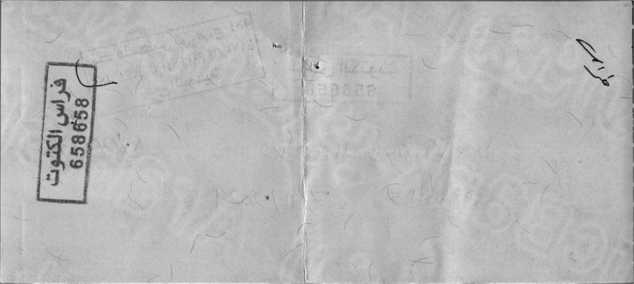stamp: (35, 61, 98, 205)
